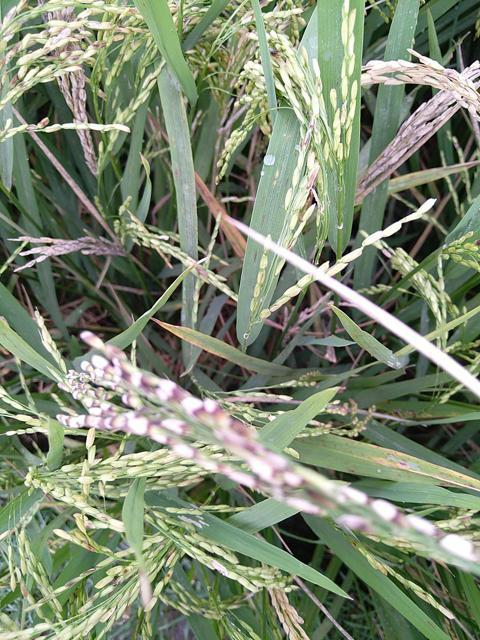Panicle Blight: (80, 333, 411, 528), (56, 370, 256, 488), (81, 361, 144, 411), (269, 587, 311, 639), (57, 72, 87, 124), (434, 529, 477, 560), (299, 166, 321, 222), (76, 130, 97, 176), (65, 568, 97, 588), (0, 41, 22, 68), (42, 6, 75, 23), (334, 515, 368, 531), (48, 42, 80, 57), (300, 125, 314, 158), (160, 420, 187, 435), (112, 24, 131, 42), (192, 263, 211, 281), (269, 43, 280, 70), (162, 548, 176, 568), (81, 540, 100, 553), (20, 573, 29, 600), (9, 67, 20, 89), (161, 569, 174, 584), (93, 38, 105, 53), (34, 119, 48, 131), (259, 0, 273, 9), (84, 521, 96, 531), (122, 568, 131, 577)
